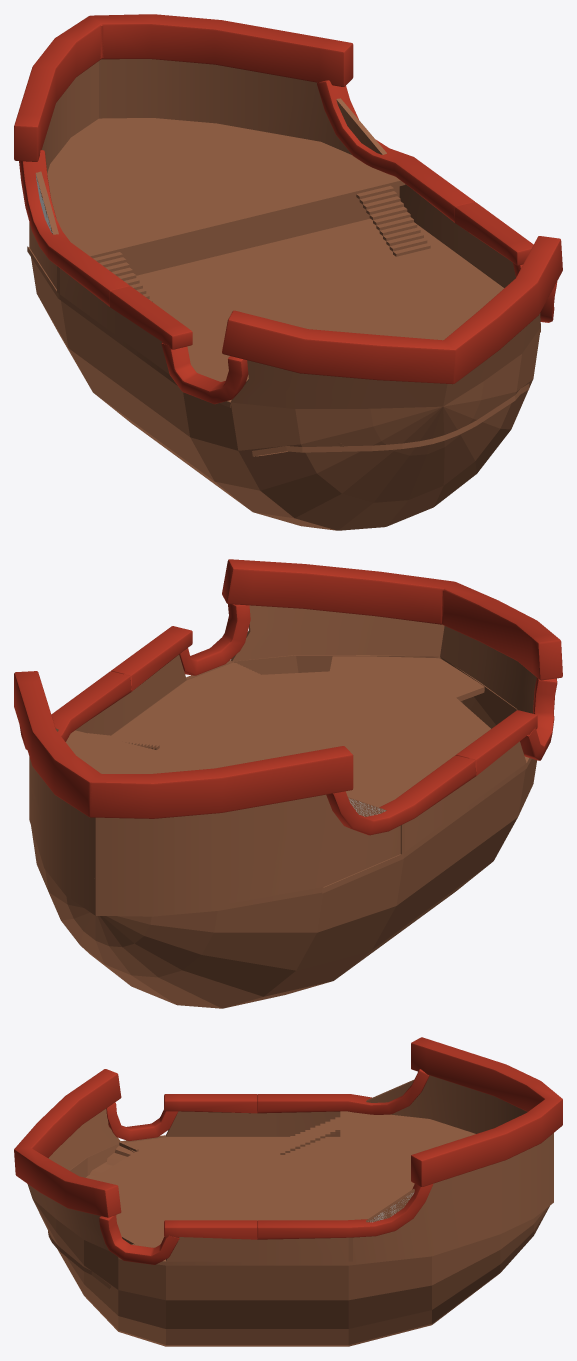
The model's file is D9_D8_Vessel_V1.fbx.
The picture shows the model from 3 angles, top to bottom: view 1: azimuth 30°, elevation 25°; view 2: azimuth 150°, elevation 25°; view 3: azimuth 270°, elevation 25°; orthographic projection. The views are drawn at different scales.
Parts seen in each view (by area): view 1: Plane.007, Plane.002, Plane.001, Plane.006, Plane.010; view 2: Plane.007, Plane.001, Plane.002; view 3: Plane.007, Plane.002, Plane.001, Plane.006, Plane.022.
Part boxes in pixels (x1,y1,x2,y2): Plane.007: (27,118,540,530); Plane.002: (14,14,562,404); Plane.001: (29,59,540,408); Plane.006: (93,185,430,301); Plane.010: (135,191,327,275); Plane.007: (29,655,536,1008); Plane.001: (29,605,536,911); Plane.002: (14,559,562,835); Plane.007: (32,1111,553,1346); Plane.002: (14,1037,562,1264); Plane.001: (27,1075,553,1261); Plane.006: (280,1117,340,1220); Plane.022: (86,1141,138,1244).
Size of the model in its own units: 2130 by 1736 by 3673.
